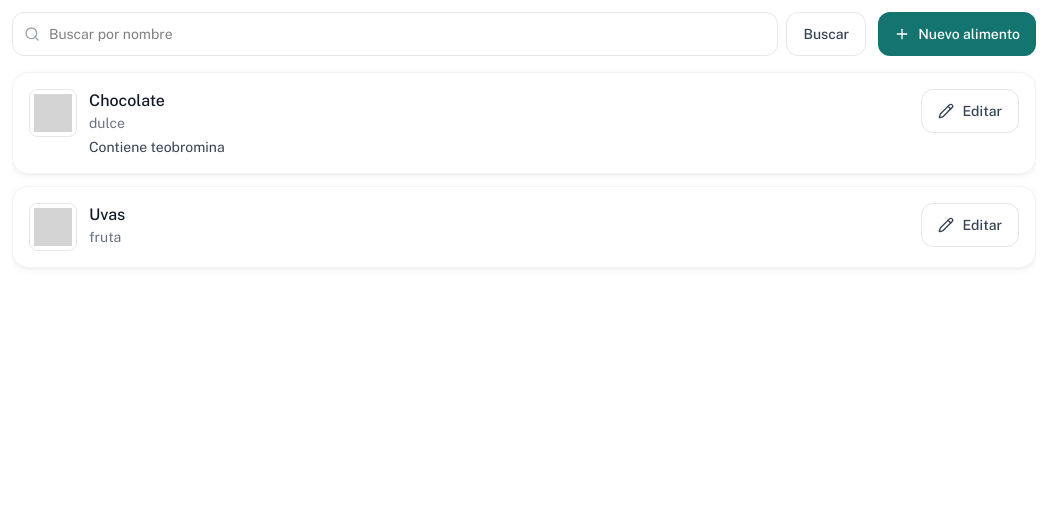
Test case: FoodsTab › shows the server error inside the edit form
Click the button with aria-label "Editar Chocolate".
click(970, 111)  # box x1=922 y1=89 x2=1019 y2=133
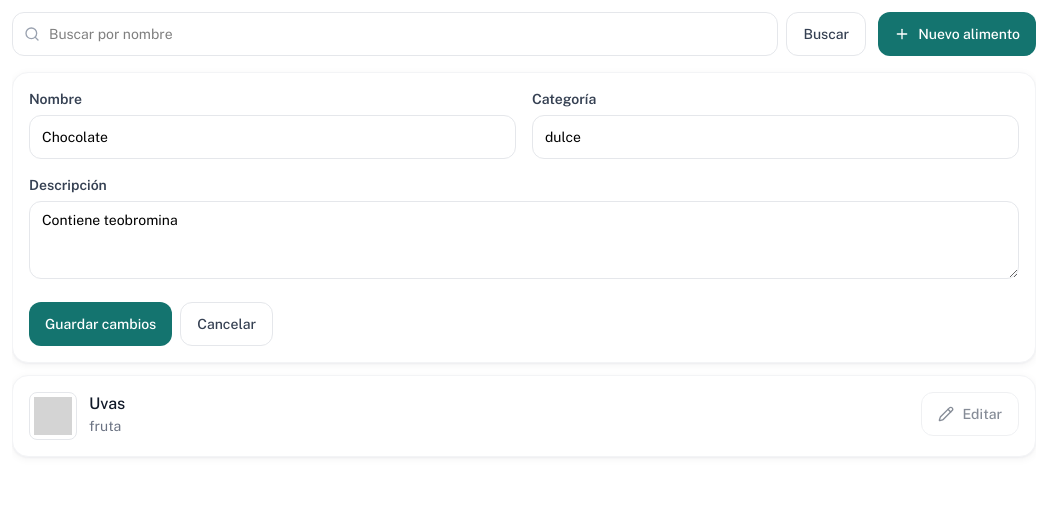
Click the button "Guardar cambios".
click(101, 324)  # box x1=29 y1=302 x2=172 y2=346
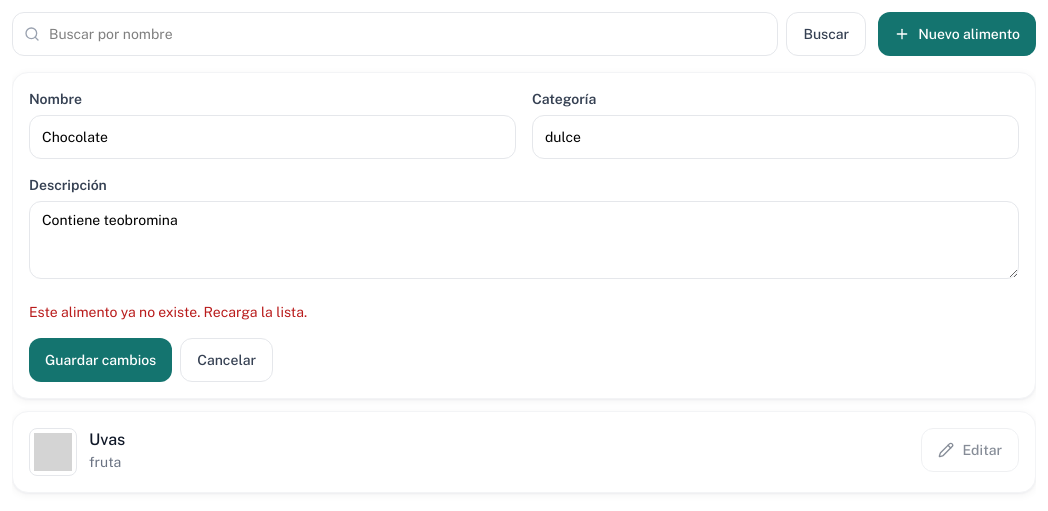
Expected: the form named "Editar Chocolate" is shown
Expected: the text "Este alimento ya no existe. Recarga la lista." is shown, x1=29 y1=304 x2=307 y2=320
